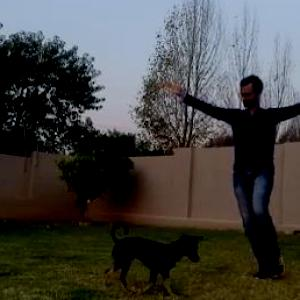takeoff: (166, 73, 299, 280)
